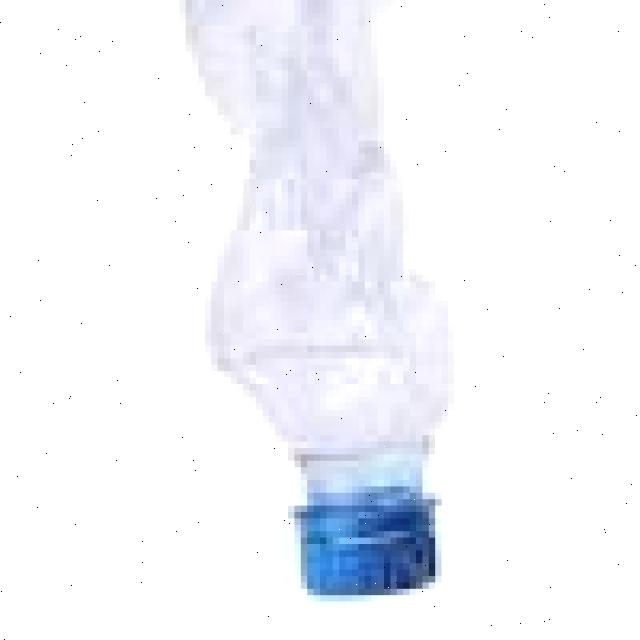bottle: (163, 0, 459, 609)
cap: (290, 496, 450, 598)
